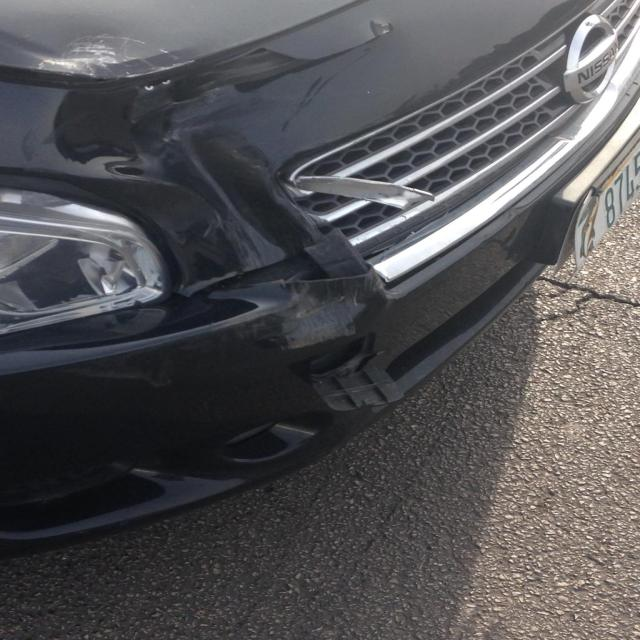crush: (25, 19, 438, 348)
